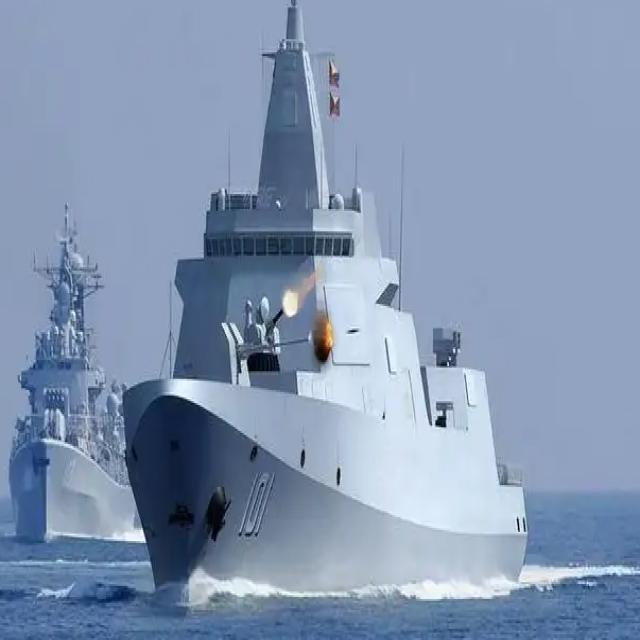navalvessels: (119, 3, 535, 596), (10, 208, 144, 556)
